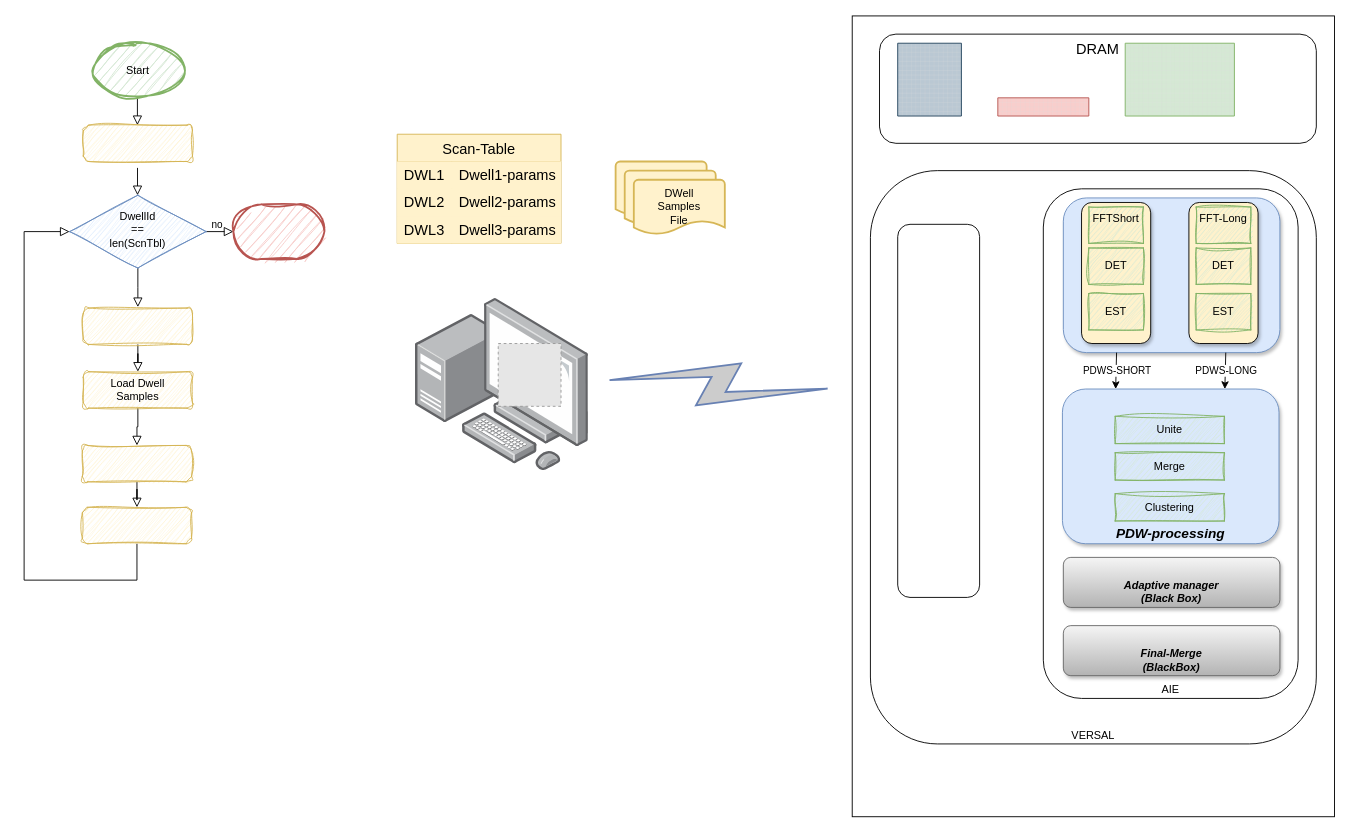
The diagram is 1350 pixels wide and 833 high, and some of its shapes have lost their labels. Grey dashed boxes stand in for pictures. The shapes that lost their labels are listed below. From the top down, each one's centre as x and y in pixels, then its label:
At [929,79]: "Dwell PDWS".
At [1179,79]: "Dwell Samples".
At [1043,106]: "DWell configuration".
At [137,143]: "DwellID=1".
At [278,231]: "End".
At [137,325]: "Load Dwell Configs".
At [938,410]: "ARM".
At [136,463]: "Run Dwell".
At [136,525]: "Collect PDWS".
